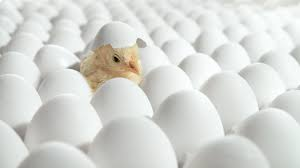eggs: (129, 9, 300, 85), (14, 16, 90, 168), (57, 55, 153, 168), (142, 64, 227, 141), (173, 89, 248, 168), (256, 102, 300, 168), (209, 69, 252, 121)
